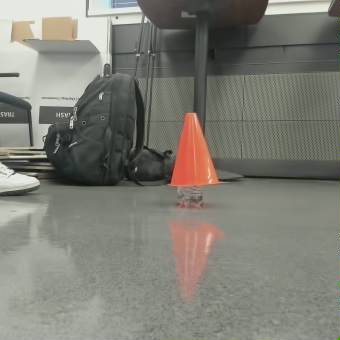Cone: (164, 112, 213, 184)
